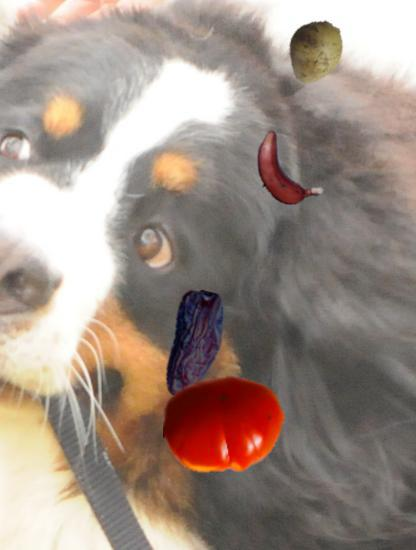Banana: (241, 129, 324, 212)
Dates: (141, 290, 250, 399)
Potato: (281, 18, 349, 86)
Tomato: (163, 364, 285, 486)
